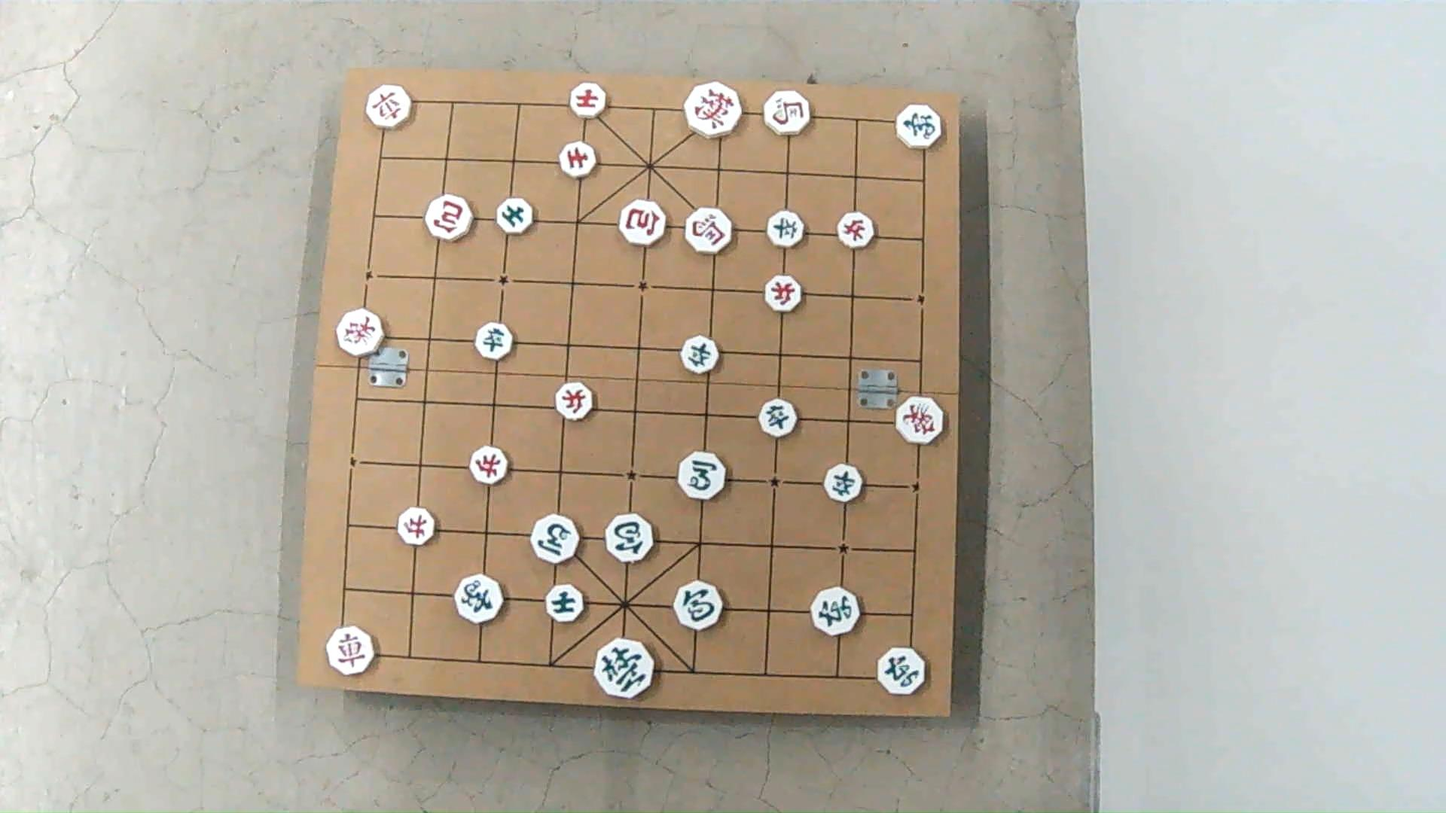cha_green: (810, 588, 858, 636), (878, 651, 926, 697)
cha_red: (326, 627, 374, 674), (367, 84, 412, 128)
jol_green: (760, 399, 798, 437), (682, 335, 720, 373), (477, 324, 514, 362), (767, 210, 804, 248), (822, 462, 861, 498)
jol_red: (470, 445, 510, 483), (554, 385, 593, 422), (400, 510, 438, 547), (767, 276, 804, 313), (836, 213, 873, 248)
ma_green: (680, 451, 728, 500), (532, 516, 579, 565)
ma_red: (685, 208, 731, 253), (767, 92, 812, 137)
po_green: (675, 581, 722, 630), (607, 516, 654, 565)
po_red: (619, 202, 665, 248), (429, 195, 474, 240)
sa_green: (545, 586, 584, 624), (496, 199, 532, 235)
sa_red: (560, 142, 597, 178), (569, 84, 605, 120)
sang_green: (454, 575, 502, 623), (898, 106, 944, 151)
sang_red: (899, 396, 946, 444), (340, 309, 387, 356)
wang_green: (594, 638, 654, 699)
wang_red: (686, 83, 740, 137)
